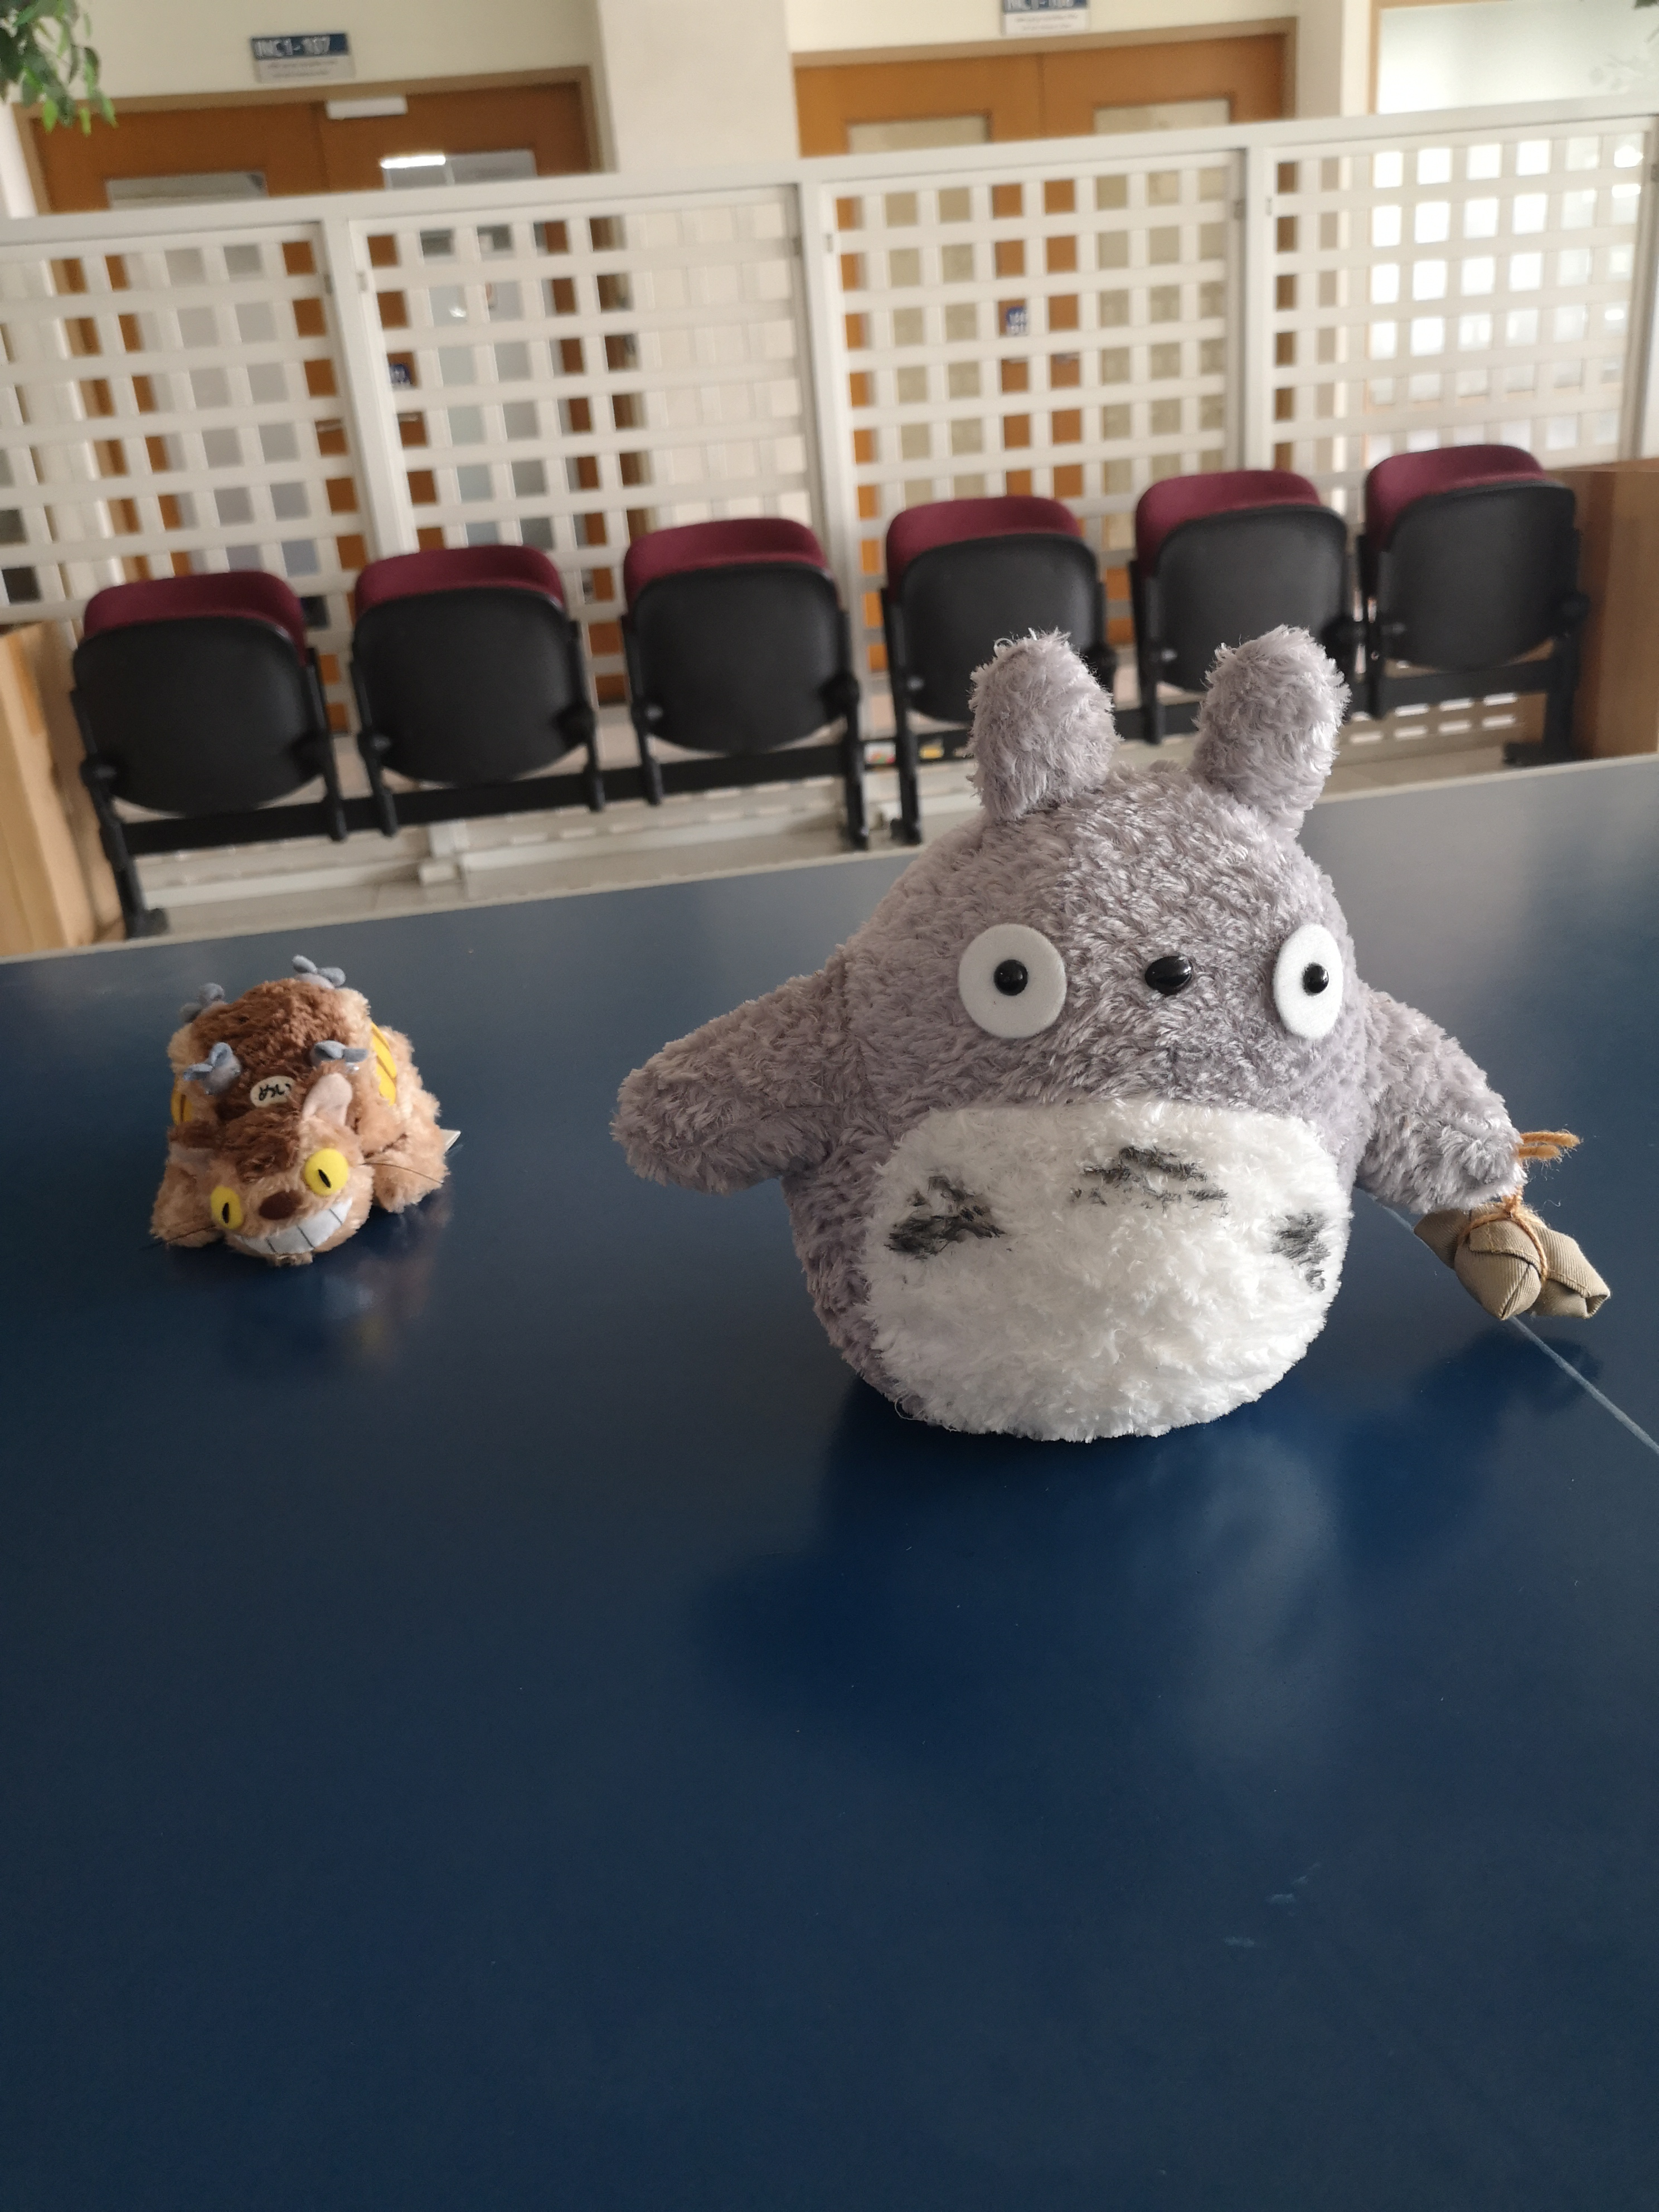nekobus: (131, 941, 465, 1282)
totoro: (594, 606, 1622, 1463)
